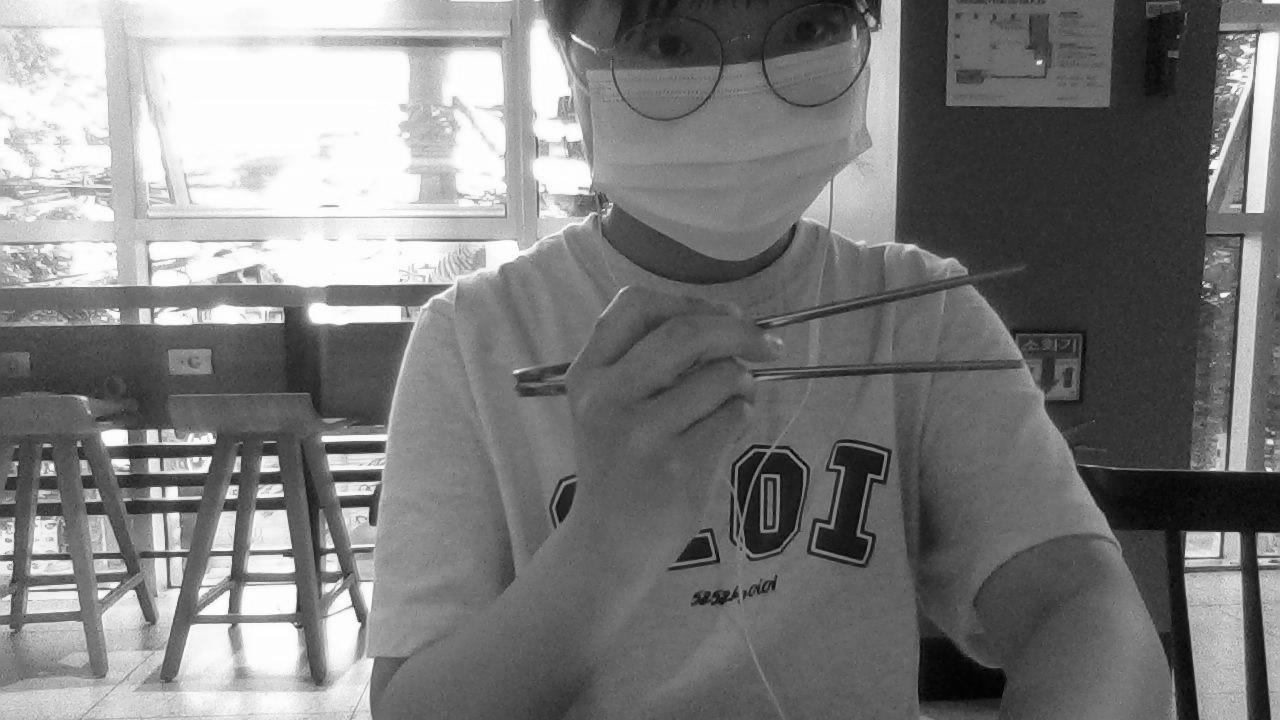chopstick: (514, 255, 1025, 383), (515, 360, 1026, 398)
hand: (566, 282, 787, 559)
